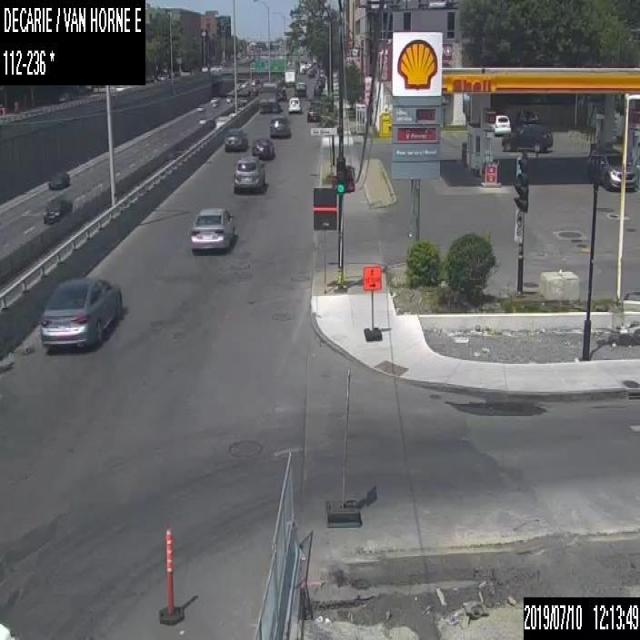construction: (254, 452, 639, 639), (156, 527, 184, 625), (361, 263, 381, 339)
vehicle: (39, 274, 123, 350), (586, 146, 636, 192), (189, 206, 236, 253), (501, 123, 552, 151), (232, 157, 265, 192), (42, 196, 72, 224), (258, 80, 279, 111), (224, 127, 247, 151), (252, 136, 274, 160), (269, 116, 290, 138), (514, 107, 538, 124), (48, 170, 69, 188), (494, 114, 511, 135), (216, 109, 234, 127), (287, 95, 301, 112), (306, 105, 320, 121), (283, 69, 295, 86), (294, 82, 306, 95), (209, 95, 220, 107), (276, 88, 286, 101), (309, 94, 320, 105), (197, 115, 208, 124), (313, 83, 321, 95), (315, 78, 323, 88), (195, 104, 205, 110), (307, 68, 314, 76), (225, 95, 231, 102)
